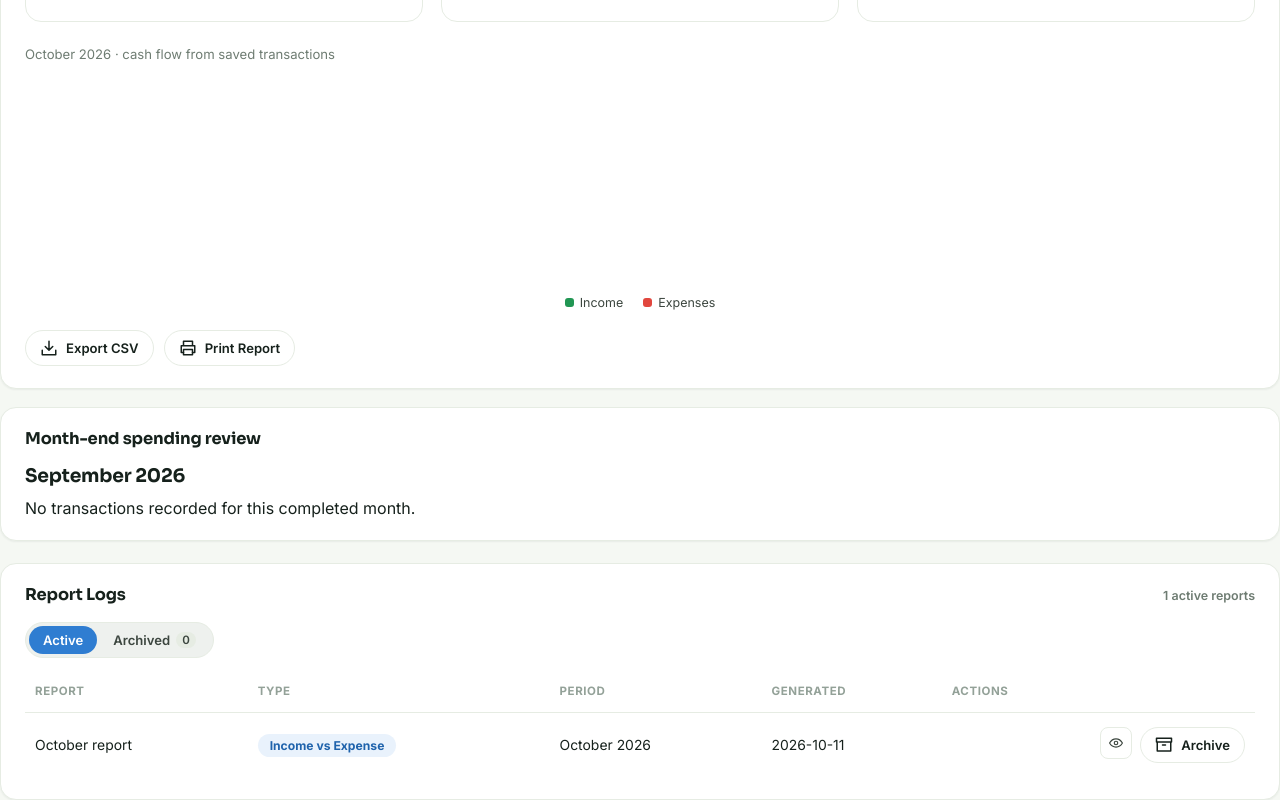
Test: keeps reports visible and exposes archive failures
(page scrolled)
Click the button with aria-label "Archive October report": [1193, 745] box [1140,727,1245,763]
(page scrolled)
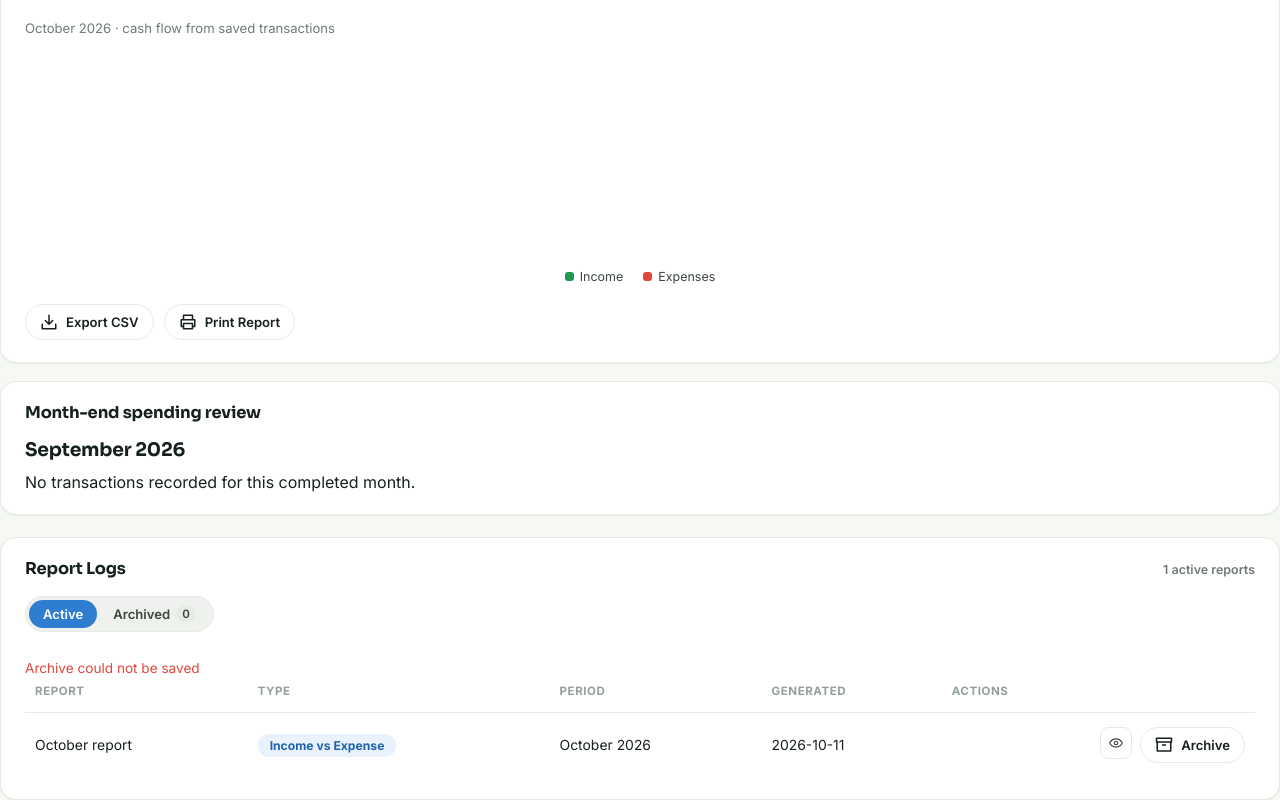
Expected: the text "October report" is shown, [25,713,248,777]
Now the message reads "Archive could not be saved", box [25,660,200,676]
